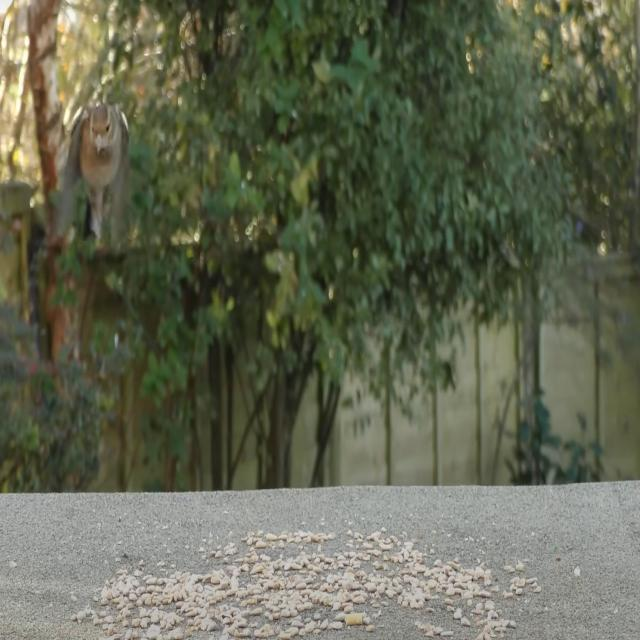beak: (94, 132, 104, 158)
bird: (60, 102, 134, 242)
